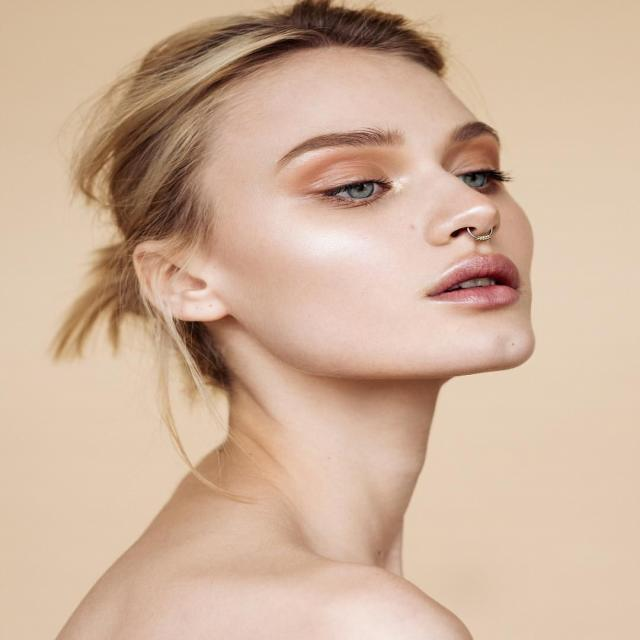earlobe: (181, 286, 228, 323)
eye: (321, 176, 398, 203), (453, 166, 509, 194)
nose: (436, 221, 522, 257)
wholeear: (134, 240, 228, 324)
